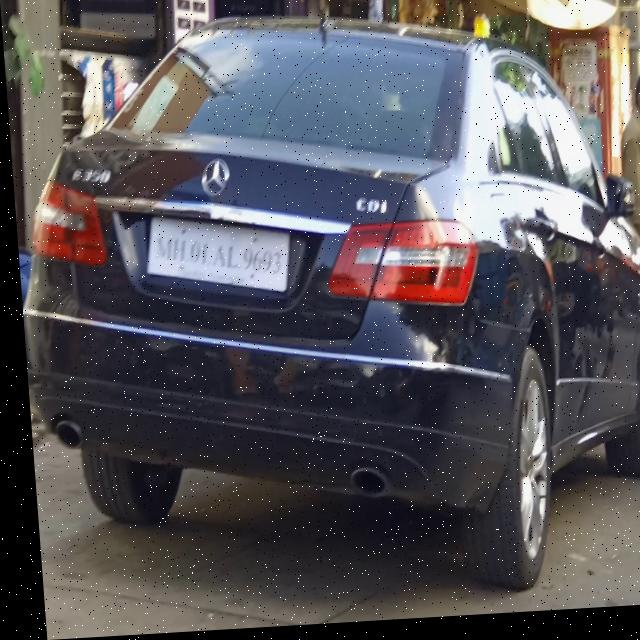plate: (137, 211, 291, 312)
